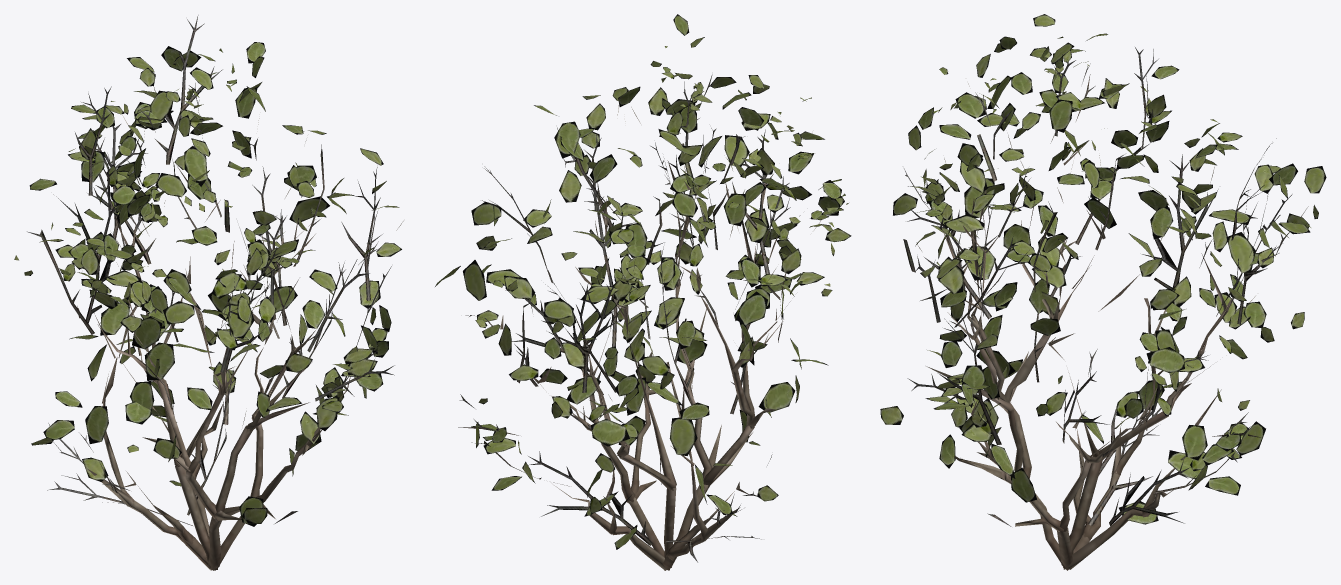
File: arbuste_searsia_b_lod1.glb
3 renders of one model, left to right at view 1: azimuth 30°, elevation 25°; view 2: azimuth 150°, elevation 25°; view 3: azimuth 270°, elevation 25°, orthographic. The views are drawn at different scales.
Visible parts, largest first — view 1: searsia_lucida_b_LOD0; view 2: searsia_lucida_b_LOD0; view 3: searsia_lucida_b_LOD0.
Part boxes in pixels (<box>): searsia_lucida_b_LOD0: <box>14,15,403,570</box>; searsia_lucida_b_LOD0: <box>435,14,851,570</box>; searsia_lucida_b_LOD0: <box>880,14,1326,570</box>.
Bounding box in the file's own units: 1.41 × 1.98 × 1.47.
Materials: 2 (2 with a texture image).
